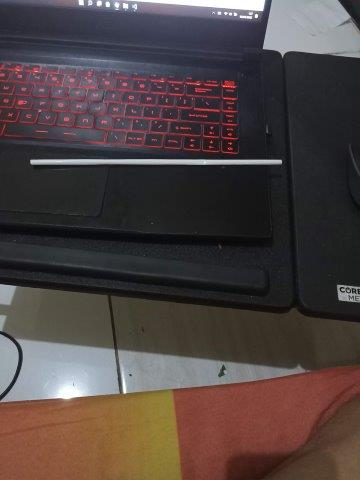sedotan: (30, 159, 282, 166)
